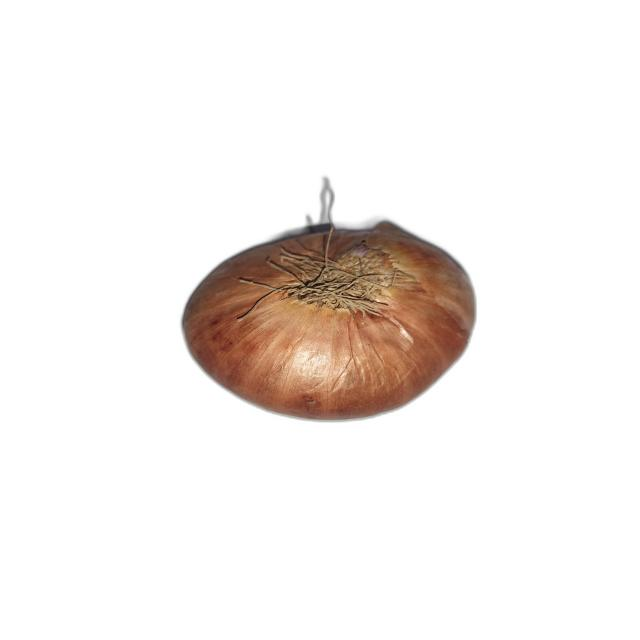onion: (183, 219, 477, 422)
